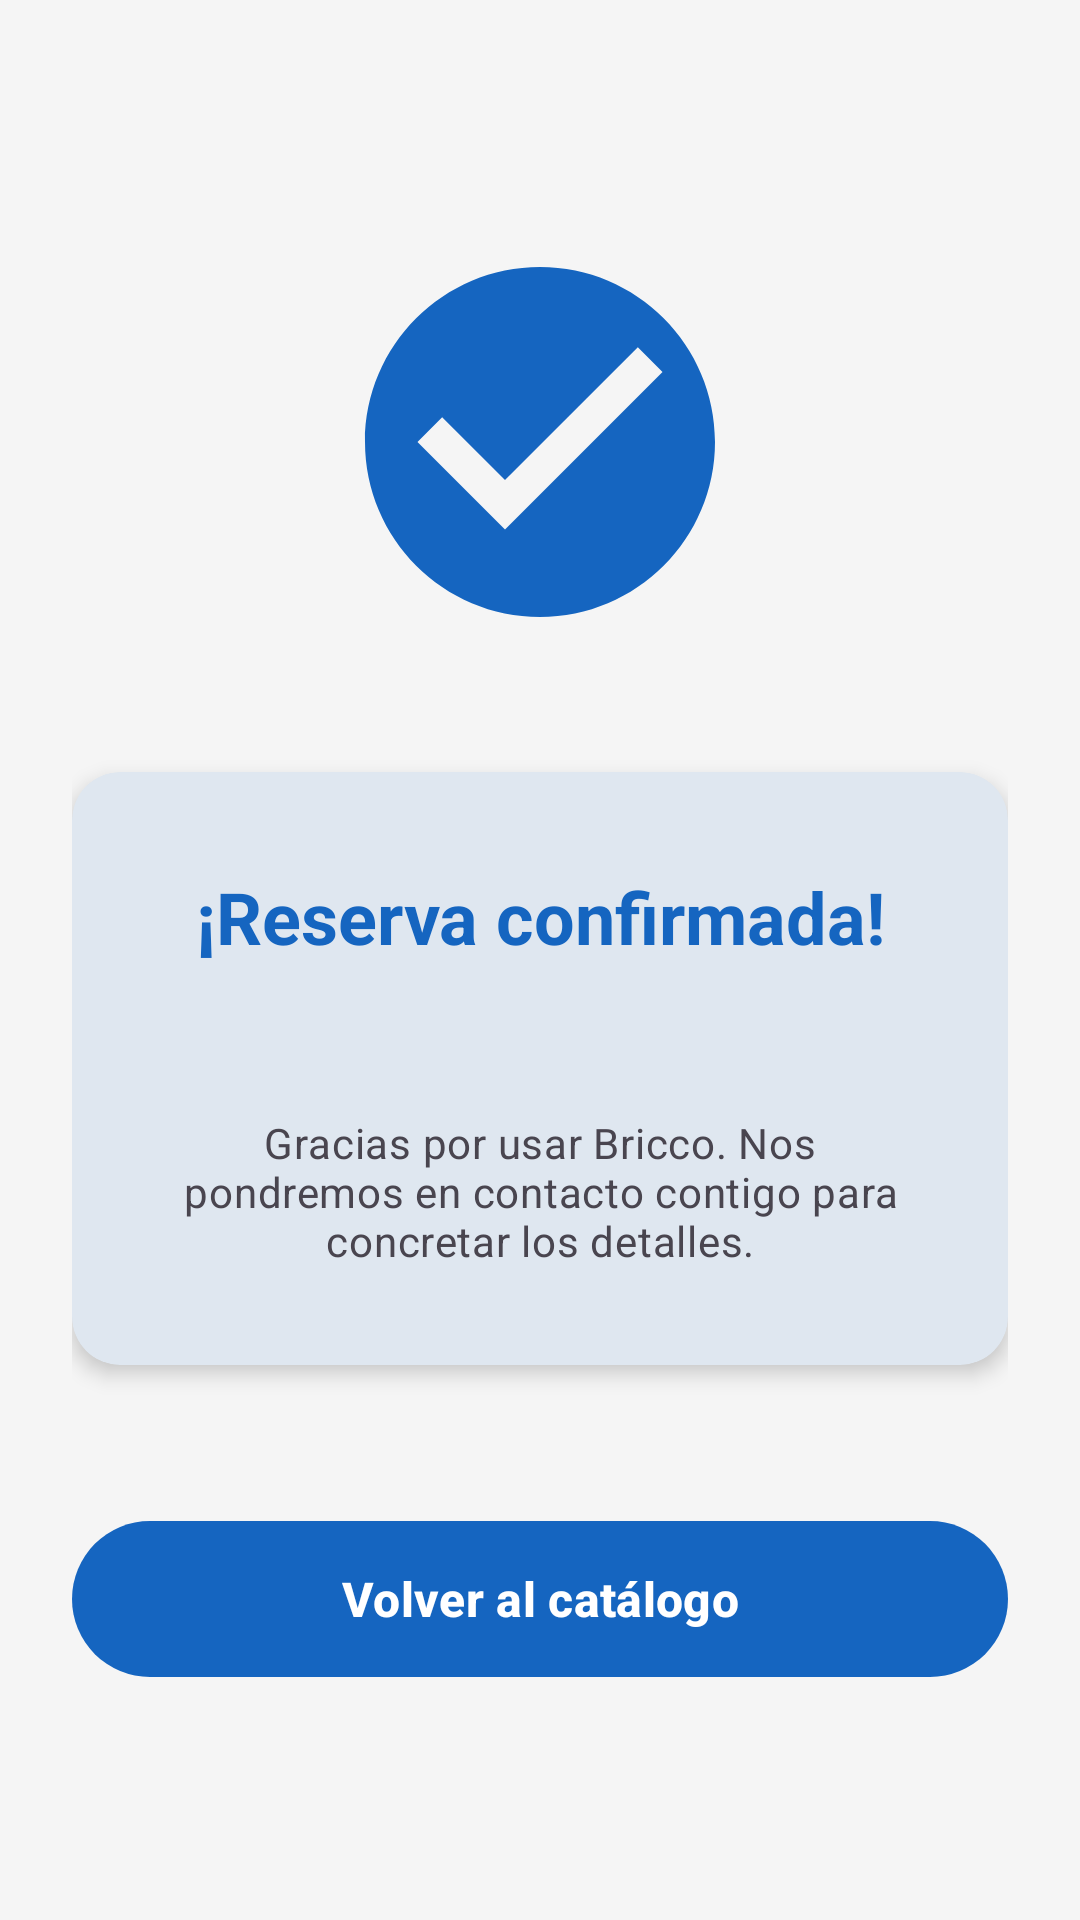

Icons on this 1080x1920 Android screen, each with its box as {"left": x1, "top": y1, "right": x2, "bottom": y2}:
¡Reserva confirmada!: {"left": 365, "top": 267, "right": 715, "bottom": 617}
